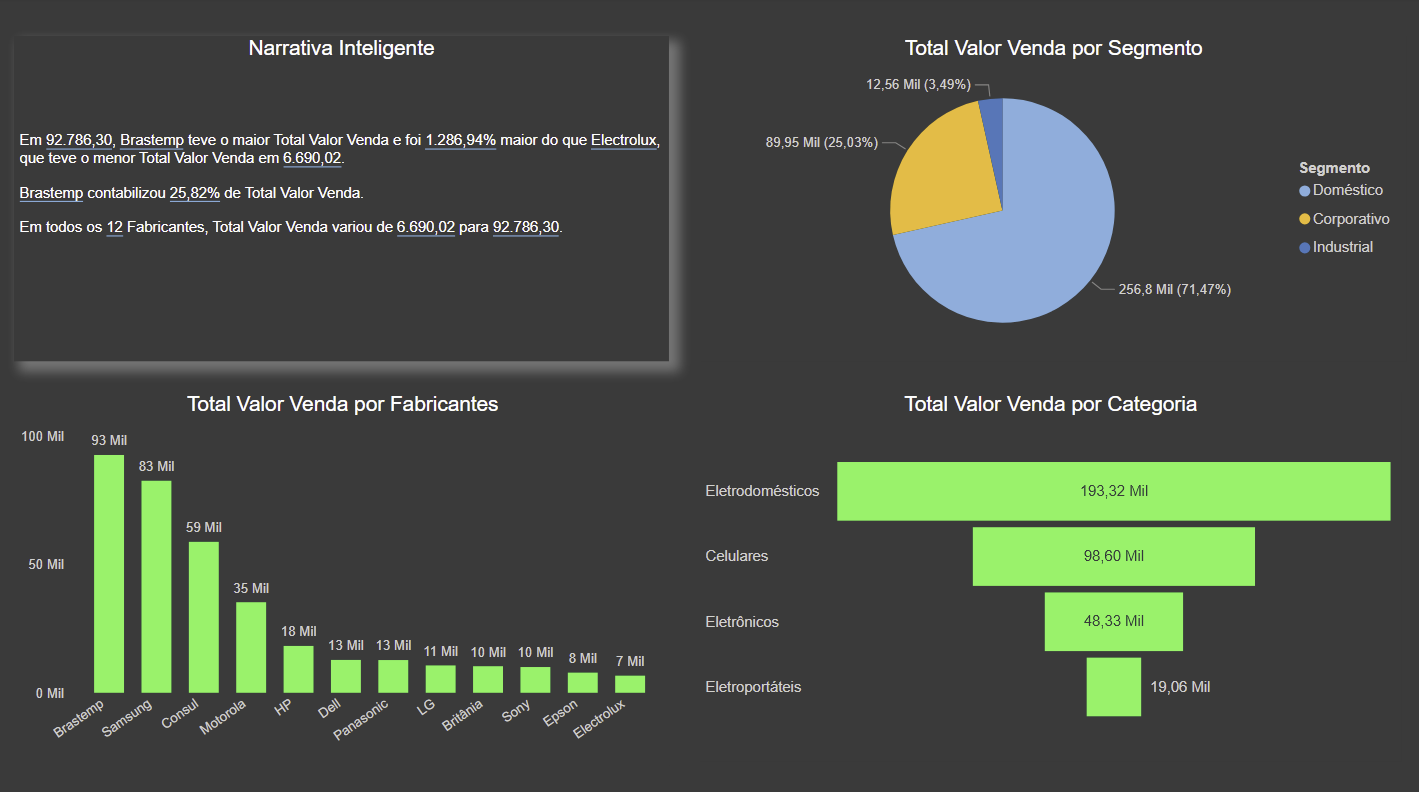

This screenshot's page, from the dashboard's own definition file:
{"tool":"powerbi","page":{"name":"Narrativa Inteligente","canvas":[1280,720],"ordinal":1},"visuals":[{"type":"funnel","fields":{"Y":["Sum(Vendas.ValorVenda)"],"Category":["Vendas.Categoria"]},"box":[631.4,354.5,630,332.2],"z":0},{"type":"pieChart","fields":{"Y":["Sum(Vendas.ValorVenda)"],"Category":["Vendas.Segmento"]},"box":[632,35.4,633.2,292.2],"z":1000},{"type":"clusteredColumnChart","fields":{"Y":["Sum(Vendas.ValorVenda)"],"Category":["Vendas.Fabricante"]},"box":[15.8,354.5,588.5,335],"z":2000},{"type":"textbox","title":"Narrativa Inteligente","box":[15.4,35.1,588,292],"z":3000}]}

Visuals, with their boxes in screenshot pixels (x1, y1, x2, y2), scaled from the page's 1280x720 canvas onto the 1419x792 screenshot:
funnel - Sum(Vendas.ValorVenda) x Vendas.Categoria: [700, 390, 1398, 755]
pieChart - Sum(Vendas.ValorVenda) x Vendas.Segmento: [701, 39, 1403, 360]
clusteredColumnChart - Sum(Vendas.ValorVenda) x Vendas.Fabricante: [18, 390, 670, 758]
"Narrativa Inteligente" textbox: [17, 39, 669, 360]
